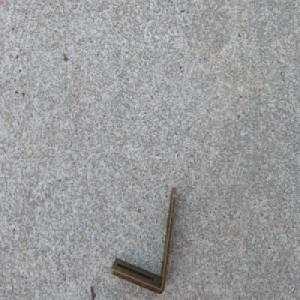MetalPart: (109, 185, 177, 295)
